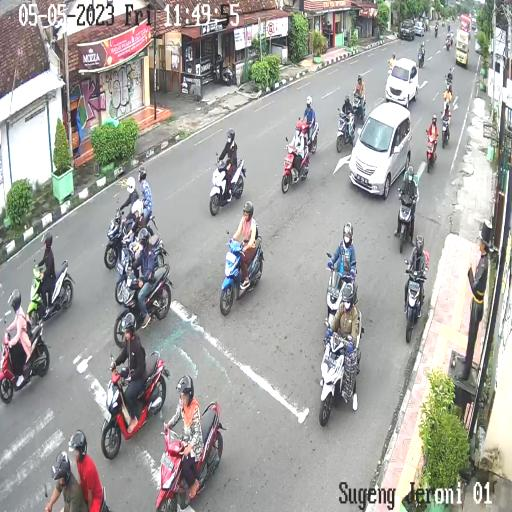mobil: (349, 102, 415, 200), (385, 59, 419, 108), (455, 28, 470, 72), (399, 19, 415, 44)
motor: (156, 402, 226, 512), (102, 351, 170, 460), (113, 266, 172, 352), (320, 316, 363, 428), (0, 318, 50, 404), (220, 230, 266, 318), (104, 196, 156, 273), (116, 225, 164, 299), (27, 256, 74, 327), (210, 151, 246, 217), (327, 254, 358, 330), (403, 257, 428, 345), (282, 136, 310, 197), (396, 185, 419, 251), (334, 106, 355, 156), (297, 115, 320, 157), (424, 128, 440, 174), (350, 86, 366, 124), (440, 110, 452, 150), (417, 47, 425, 69)
